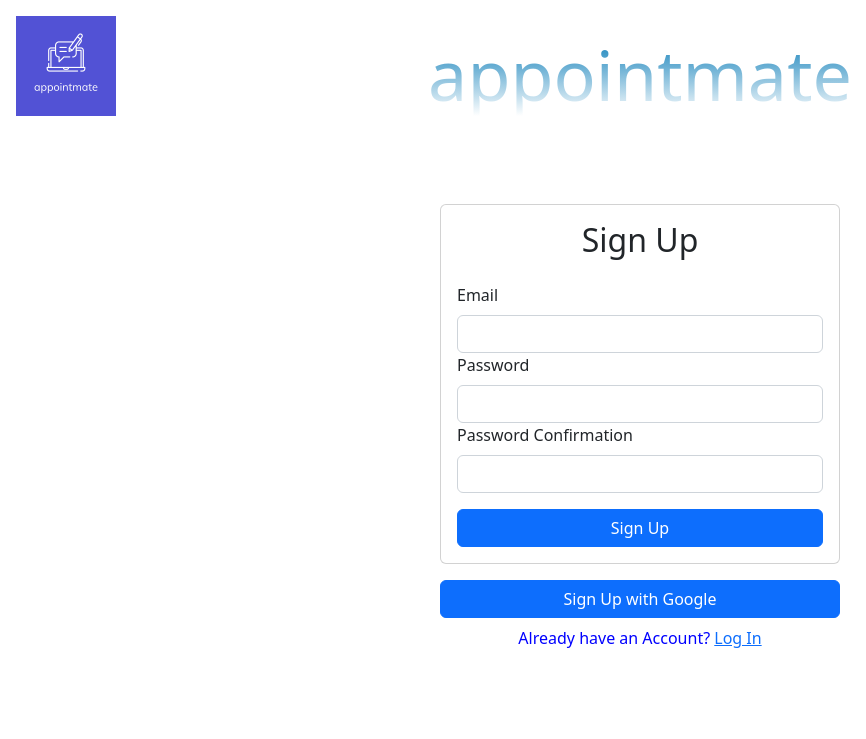
Test case: SignUp component › displays error when passwords do not match
Type "test@example.com" into the field labelled "Email" at (640, 334), box 457,315 -> 823,353
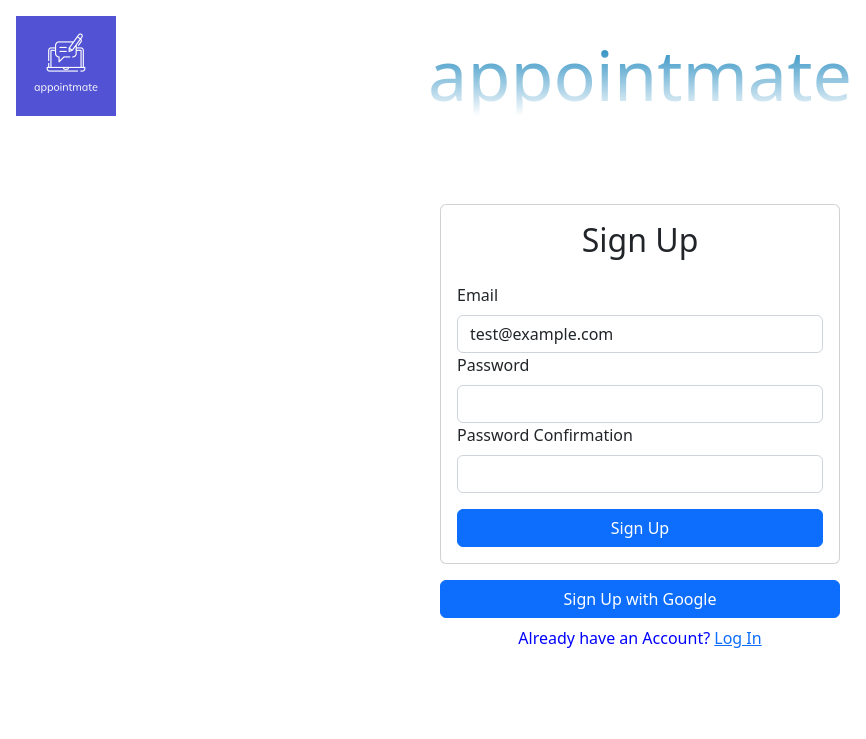
Type "password123" into the password field labelled "Password" at (640, 404), box 457,385 -> 823,423
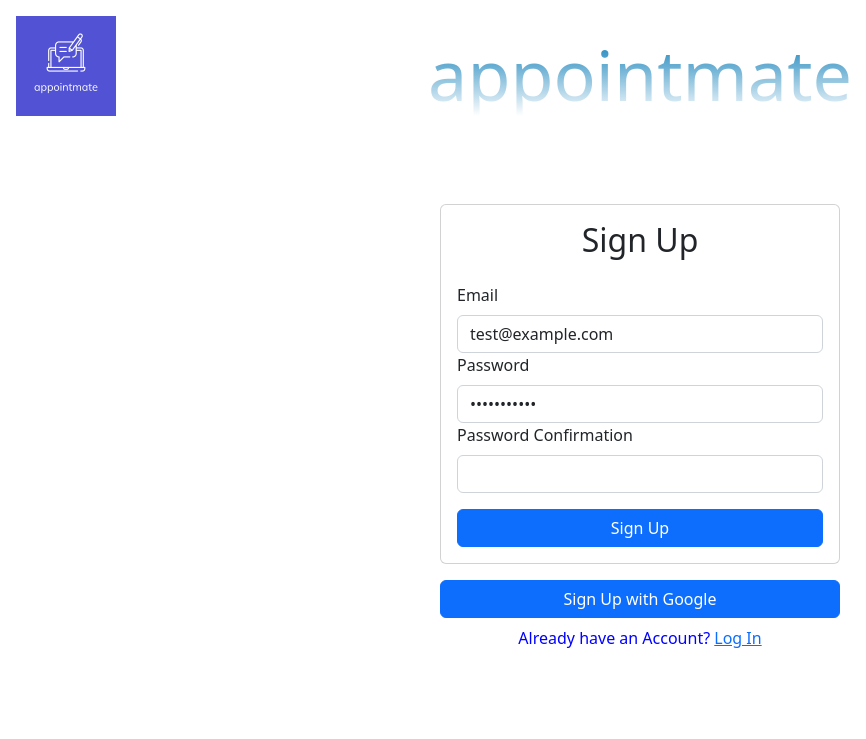
Type "password321" into the password field labelled "Password Confirmation" at (640, 474), box 457,455 -> 823,493
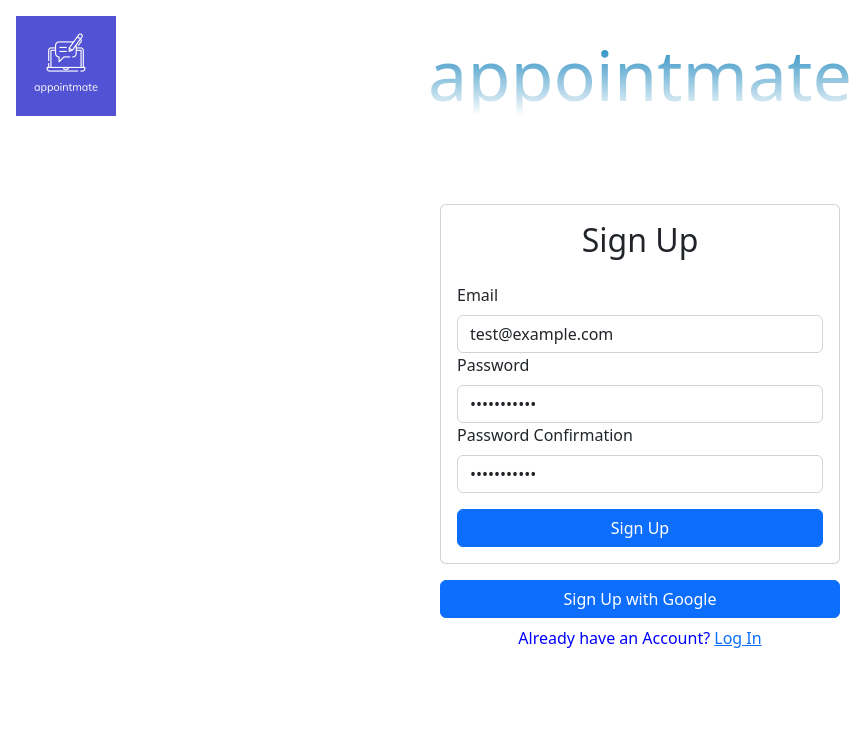
Click the button "Sign Up" at (640, 528), box 457,509 -> 823,547
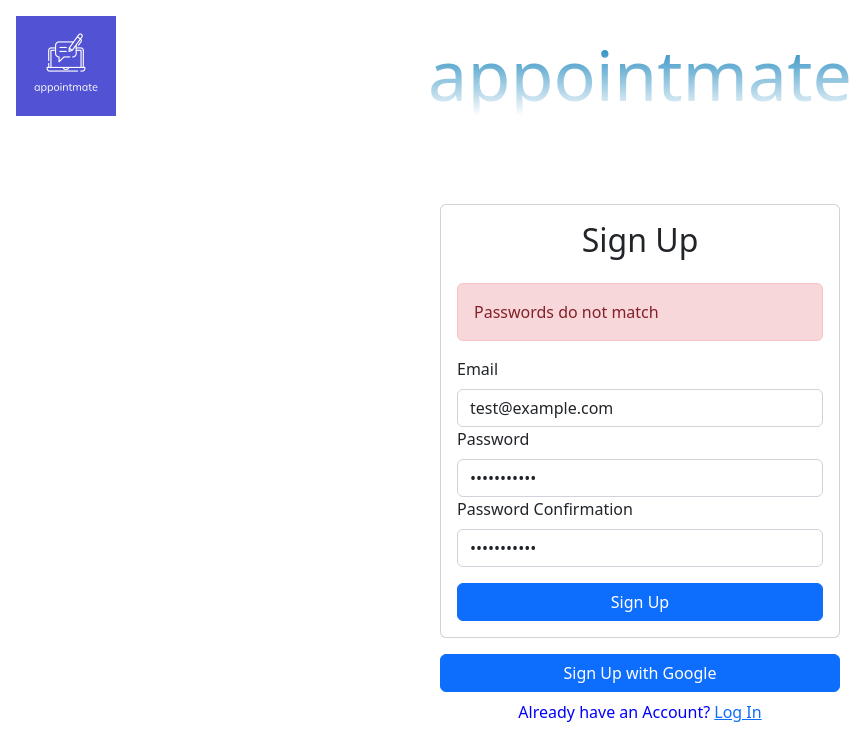
Result: the text "Passwords do not match" is shown at 457,283 -> 823,341
